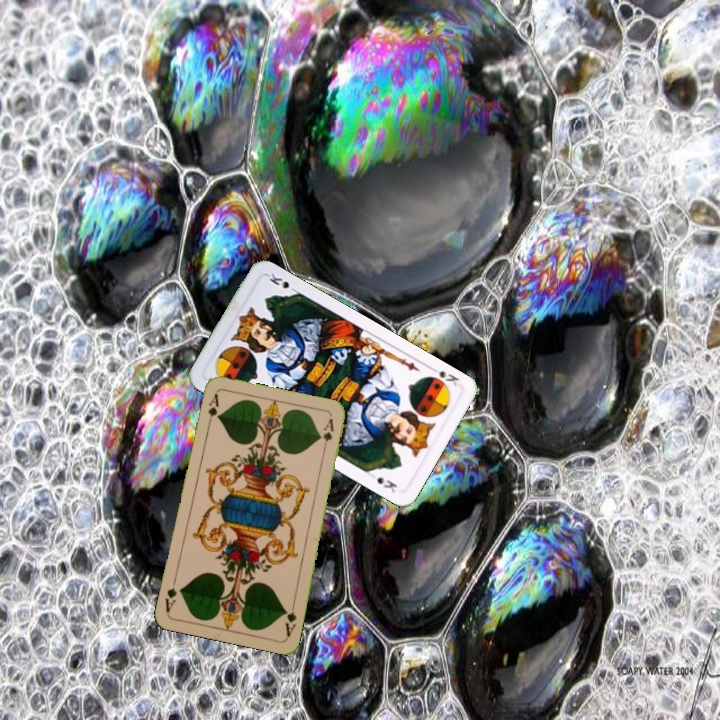GA: (281, 599, 299, 639), (204, 389, 221, 430)
SK: (426, 363, 462, 388)
